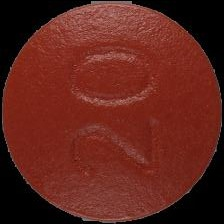59762-5021: (0, 0, 224, 224)
